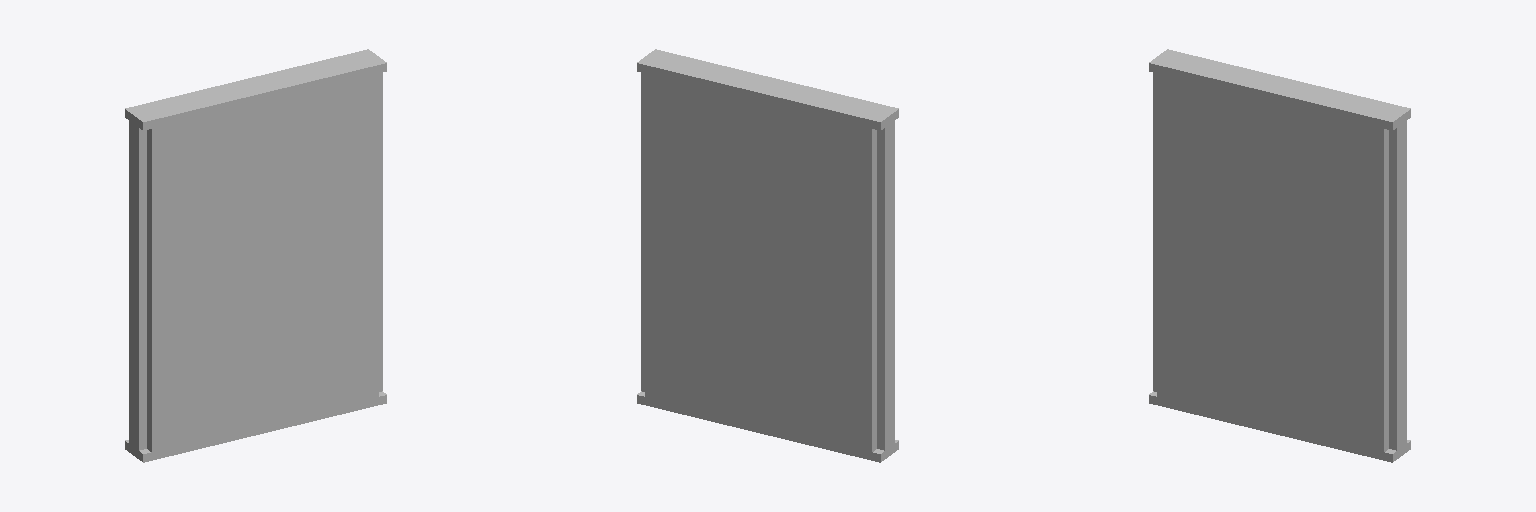
The model's file is door1.obj.
3 renders of one model, left to right at view 1: azimuth 30°, elevation 25°; view 2: azimuth 150°, elevation 25°; view 3: azimuth 330°, elevation 25°, orthographic.
Visible parts, largest first — view 1: object 1; view 2: object 1; view 3: object 1.
Part boxes in pixels (left/top/right/bottom): object 1: left=125, top=49, right=386, bottom=462; object 1: left=637, top=49, right=898, bottom=462; object 1: left=1149, top=49, right=1410, bottom=462.
Bounding box in the file's own units: 3 × 4 × 0.4.